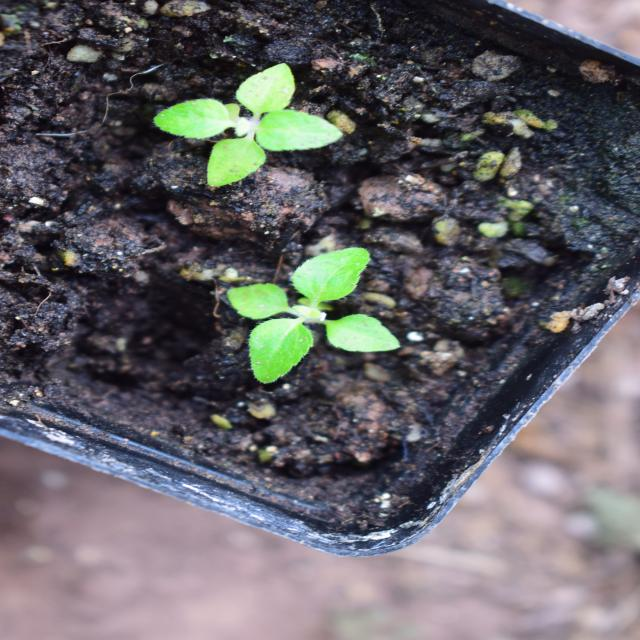billygoat_weed: (66, 287, 206, 503), (244, 238, 384, 409)
